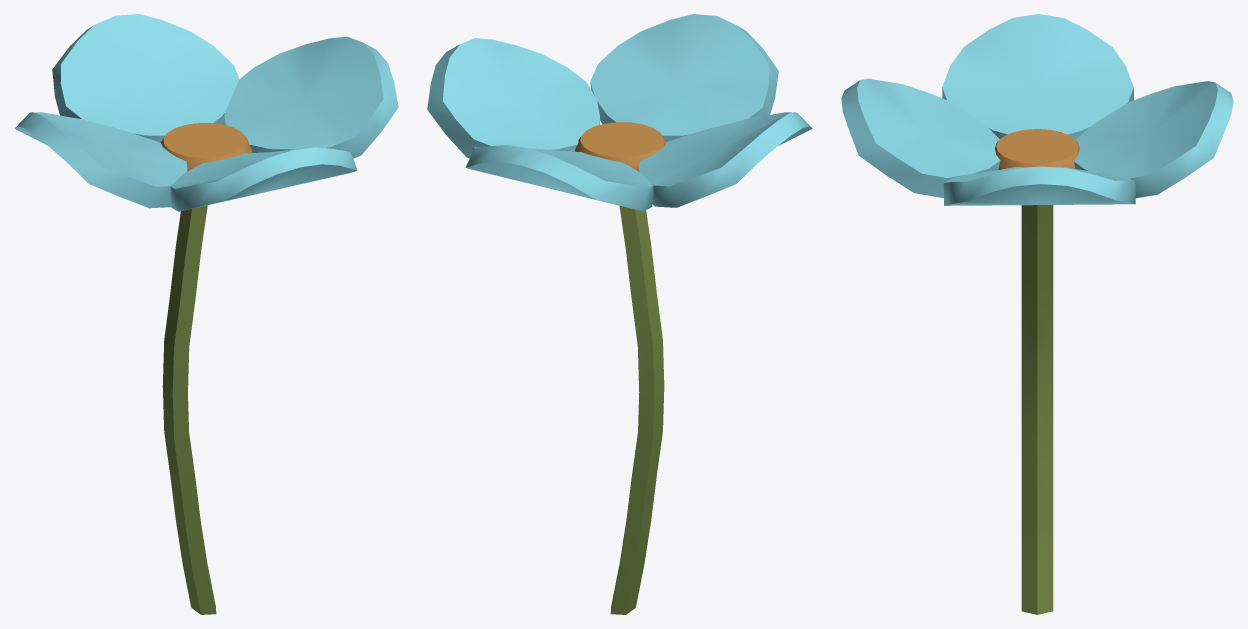
File: flor3.fbx
3 renders of one model, left to right at view 1: azimuth 30°, elevation 25°; view 2: azimuth 150°, elevation 25°; view 3: azimuth 270°, elevation 25°, orthographic.
Parts seen in each view (by area): view 1: petala1, petala2, pCylinder3, petala4, petala3, centro; view 2: petala3, petala2, pCylinder3, petala4, petala1, centro; view 3: petala4, pCylinder3, petala3, petala1, petala2, centro.
Boxes of the visible parts, x1,y1,x2,y2 form: petala1: (52, 14, 239, 142); petala2: (224, 36, 398, 158); pCylinder3: (162, 205, 216, 614); petala4: (14, 112, 187, 208); petala3: (170, 147, 357, 211); centro: (160, 123, 252, 170); petala3: (590, 14, 778, 141); petala2: (427, 38, 599, 158); pCylinder3: (610, 205, 664, 614); petala4: (639, 112, 812, 207); petala1: (465, 145, 653, 211); centro: (574, 122, 666, 171); petala4: (942, 14, 1133, 139); pCylinder3: (1021, 205, 1053, 614); petala3: (841, 78, 1000, 197); petala1: (1073, 81, 1233, 198); petala2: (943, 166, 1135, 205); centro: (995, 129, 1079, 169).
Bounding box in the file's own units: 4.73 × 6.92 × 4.73.
